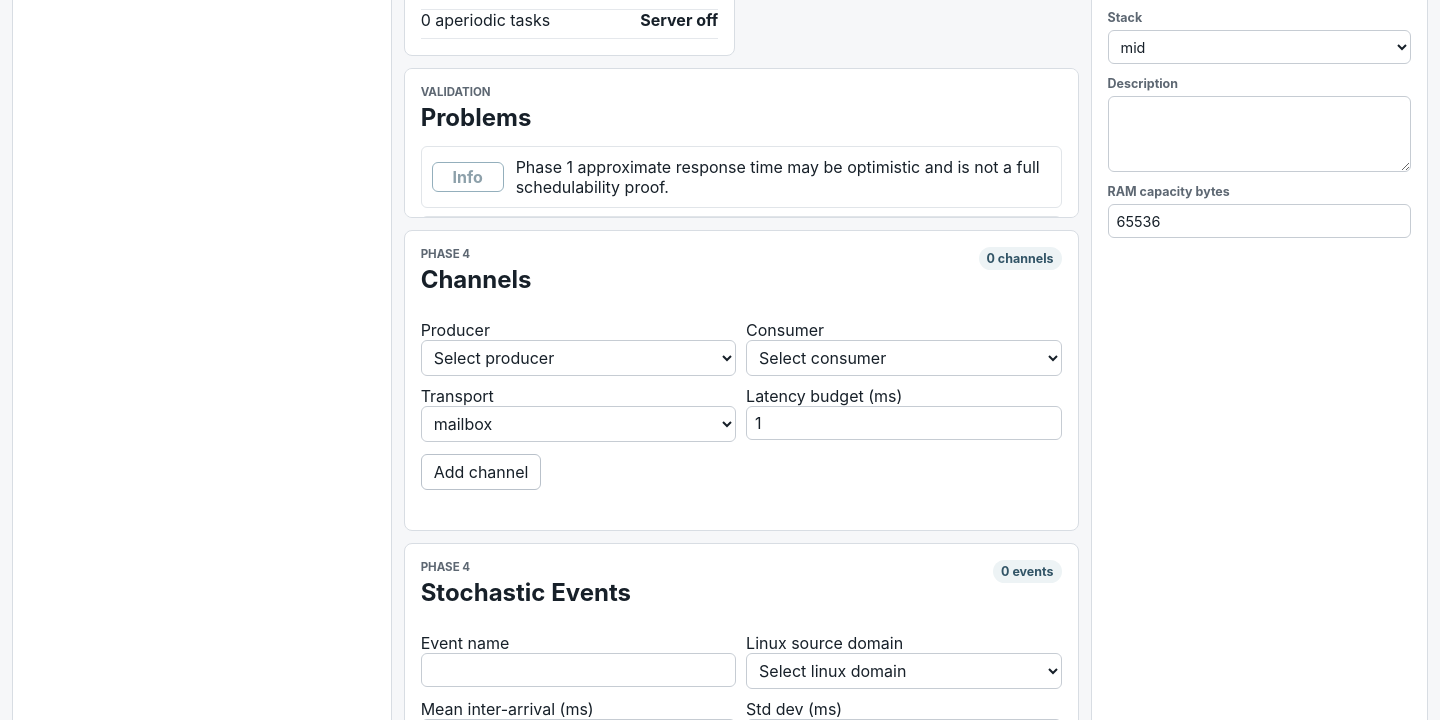
Scenario: ChannelPanel › creates and deletes channels from ProjectState
(page scrolled)
Select "MotorCtrl_X" in the dropdown named "Channel producer". click: (578, 358)
box: [421, 340, 736, 376]
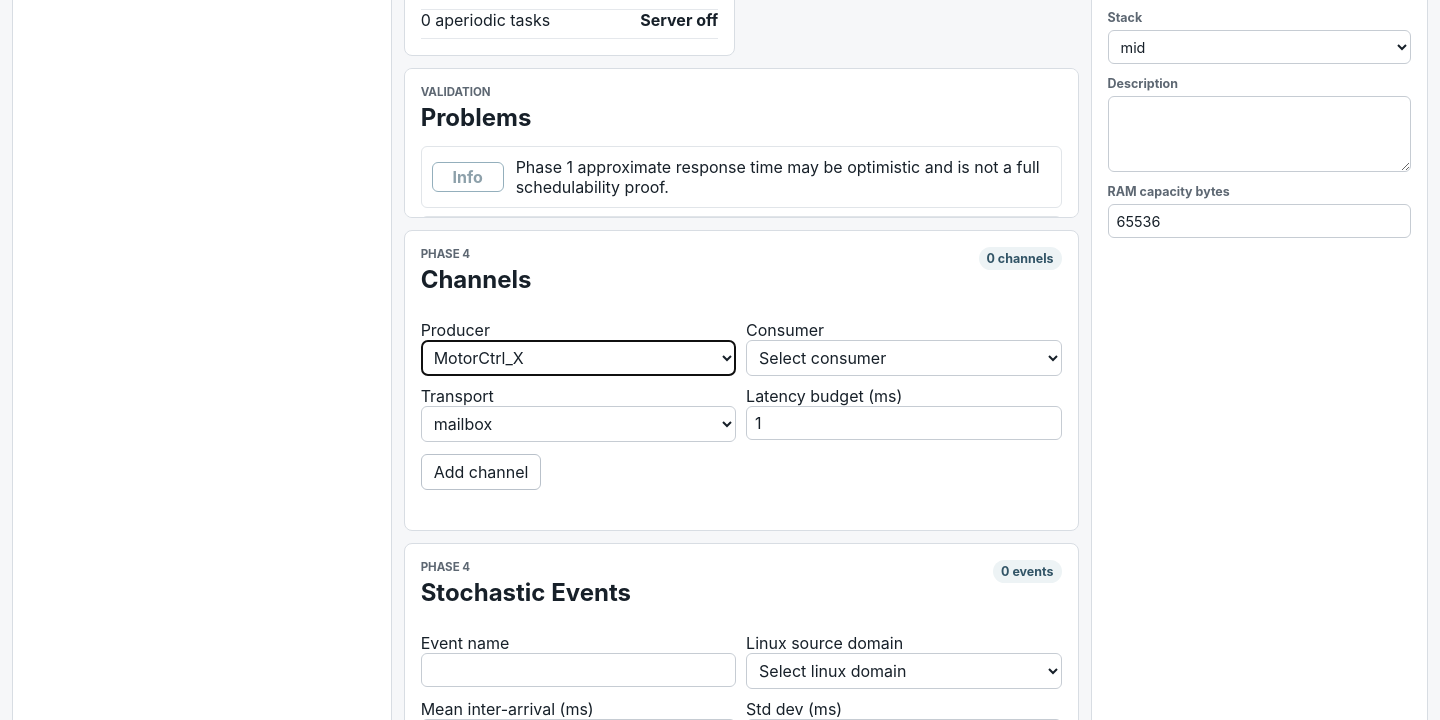
Select "SensorFusion" in the dropdown named "Channel consumer". click: (904, 358)
box: [746, 340, 1062, 376]
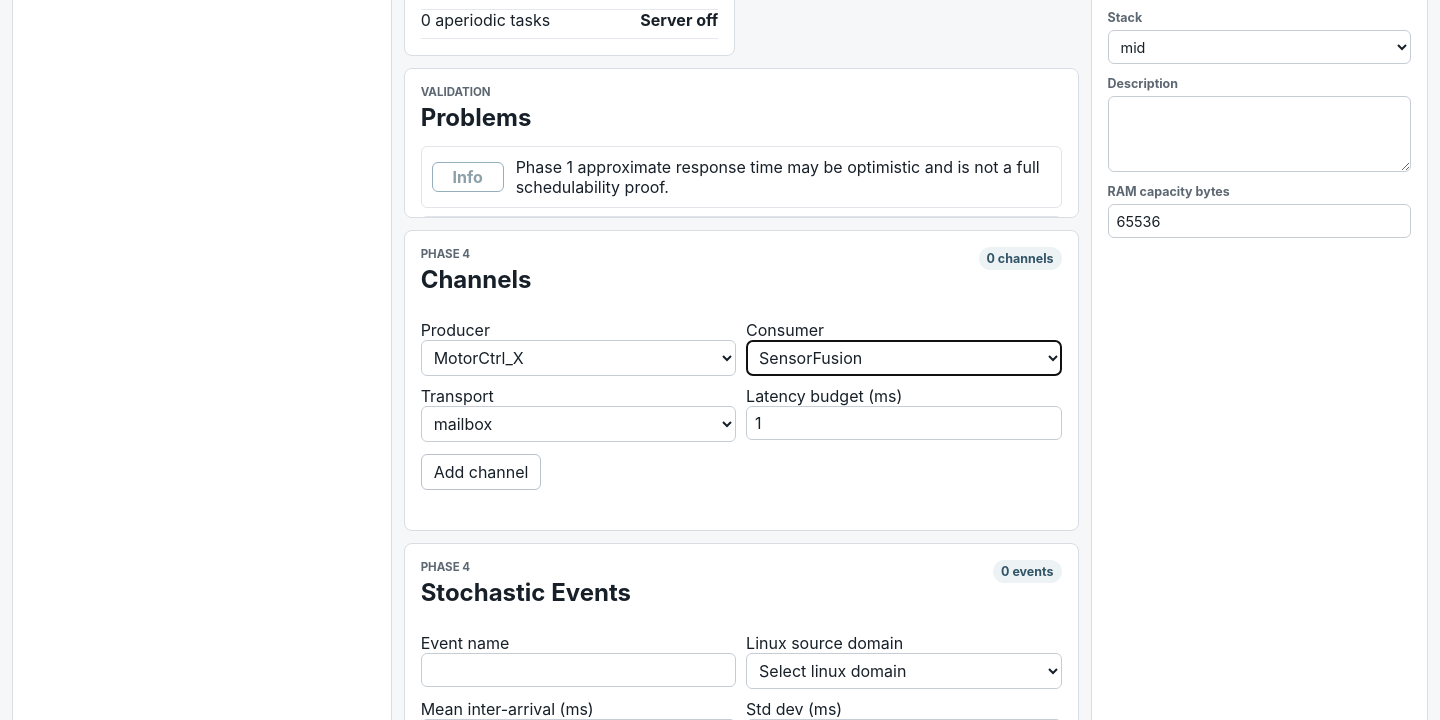
Select "queue" in the dropdown named "Channel transport". click: (578, 424)
box: [421, 406, 736, 442]
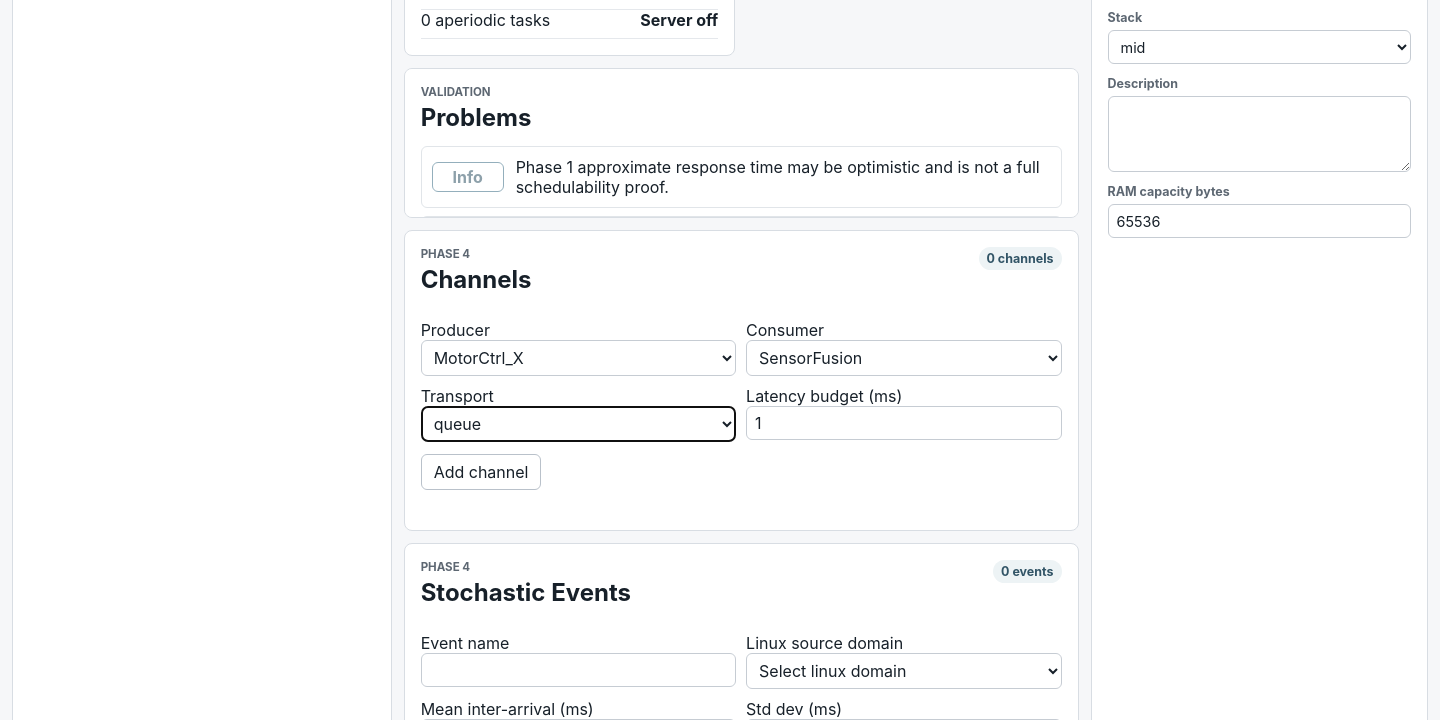
Replace the text in the number field named "Channel latency budget" with "2.5". click: (904, 423)
box: [746, 406, 1062, 440]
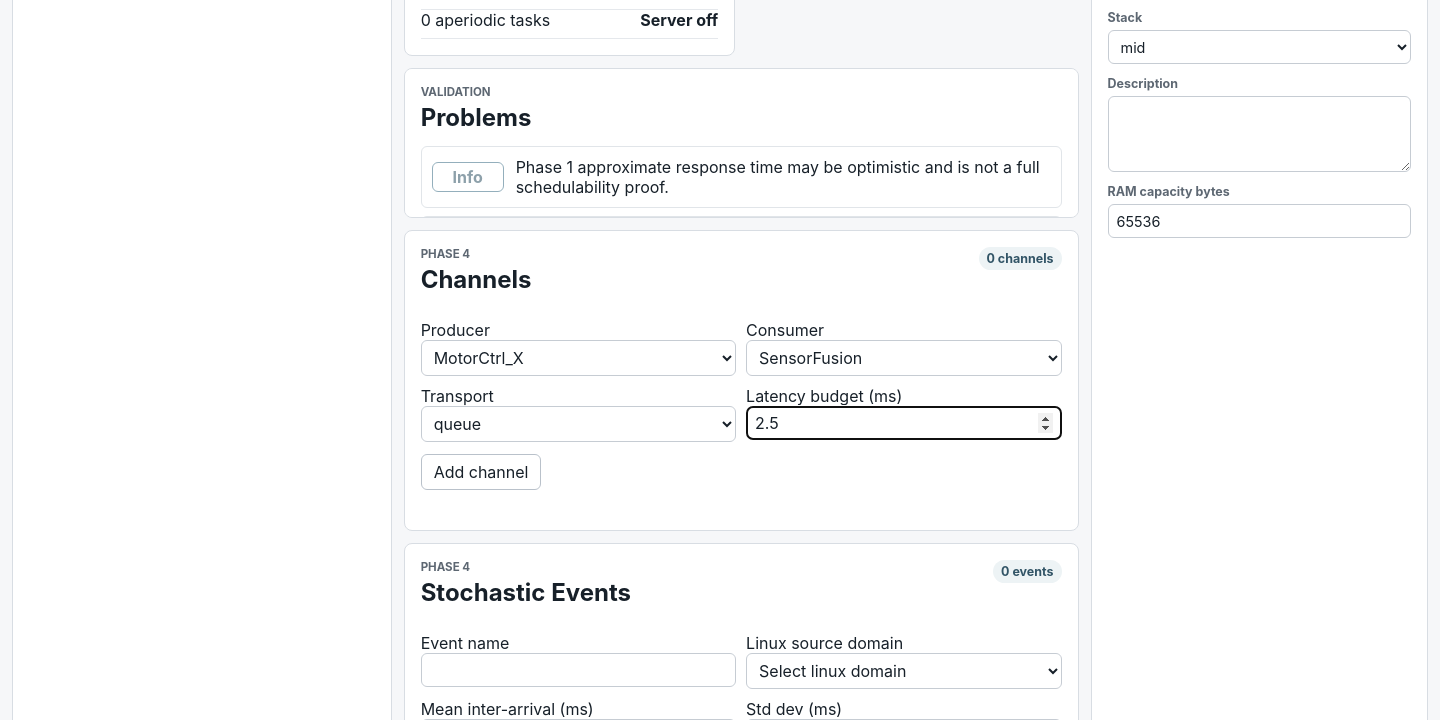
Click the button "Add channel". click: (481, 472)
box: [421, 454, 541, 490]
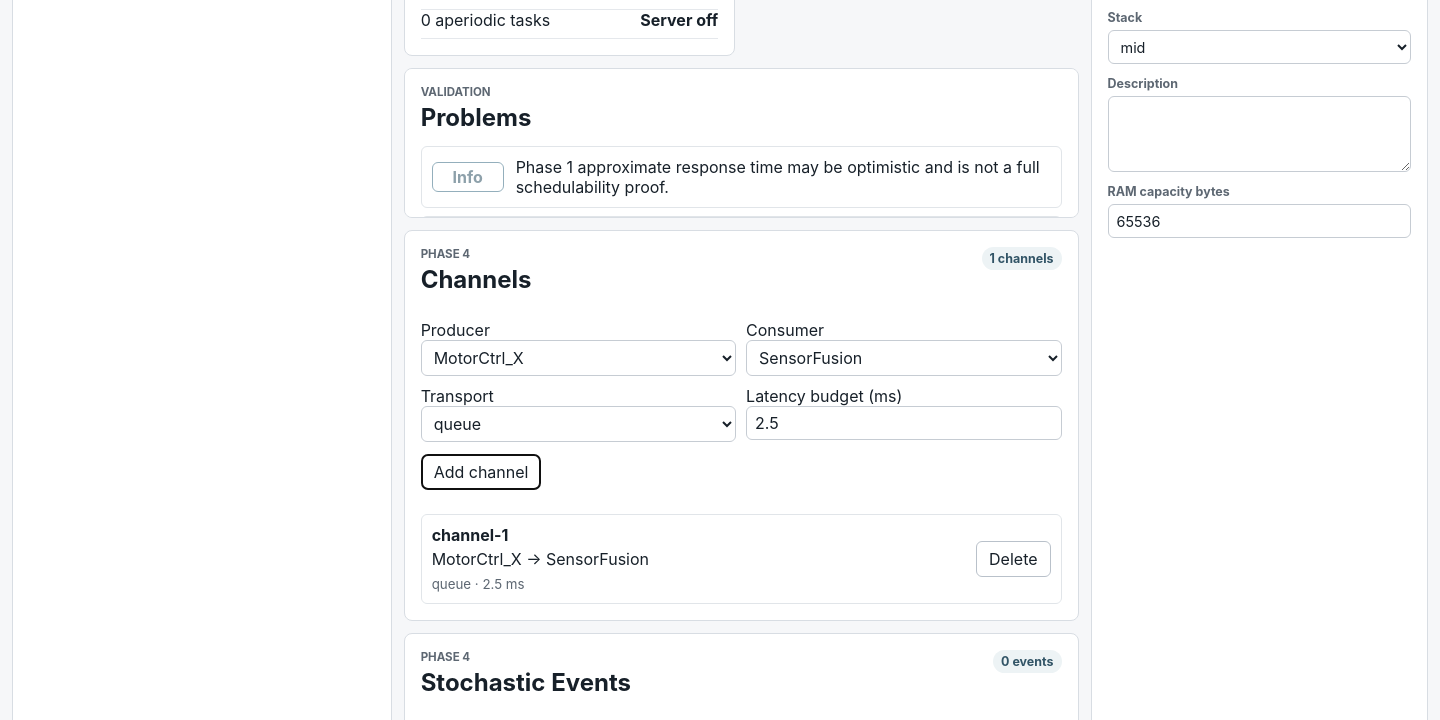
Check: the text "channel-1" is shown, box [432, 525, 508, 545]
Check: the text "MotorCtrl_X -> SensorFusion" is shown, box [432, 549, 649, 569]
Click the button with aria-label "Delete channel channel-1". click: (1013, 559)
box: [976, 541, 1050, 577]
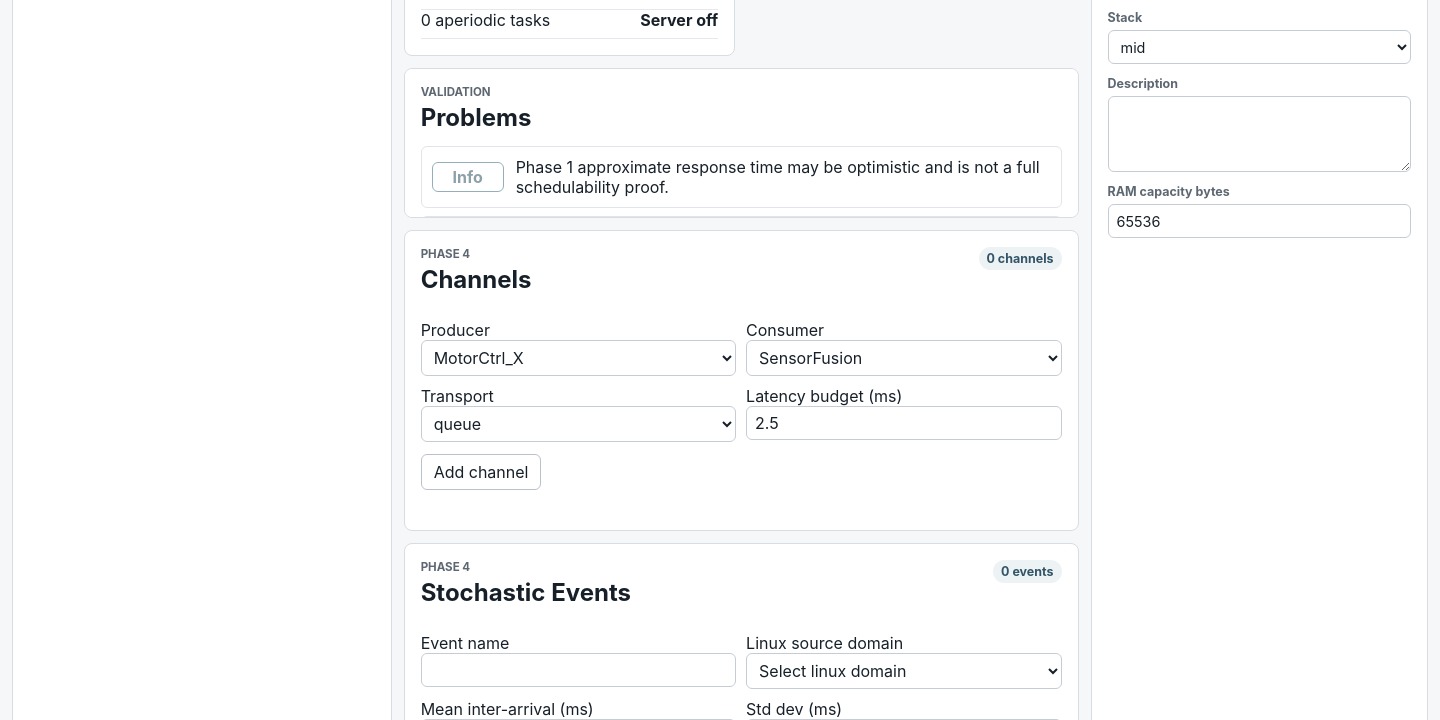
Check: the text "channel-1" is gone
